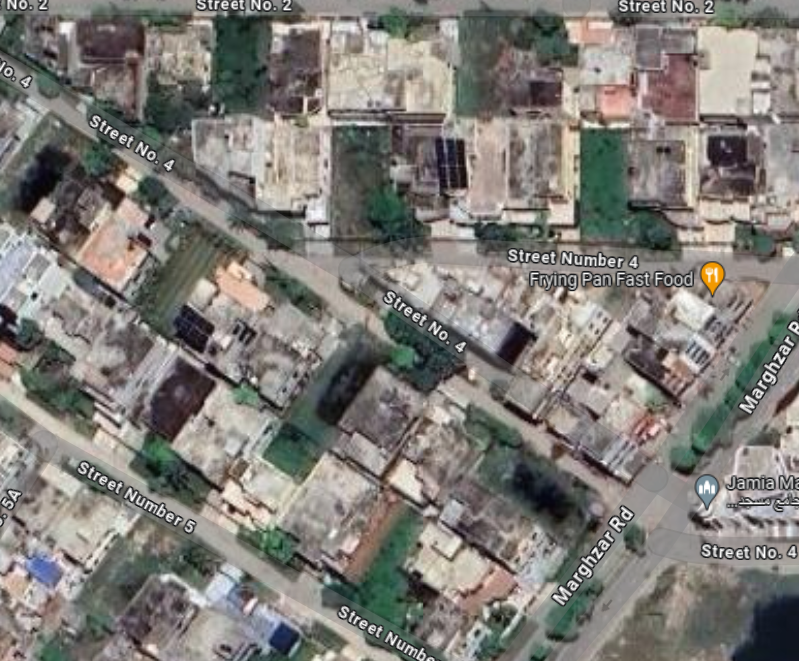solar-panel: (435, 137, 470, 196), (177, 304, 209, 345), (691, 335, 707, 362)
